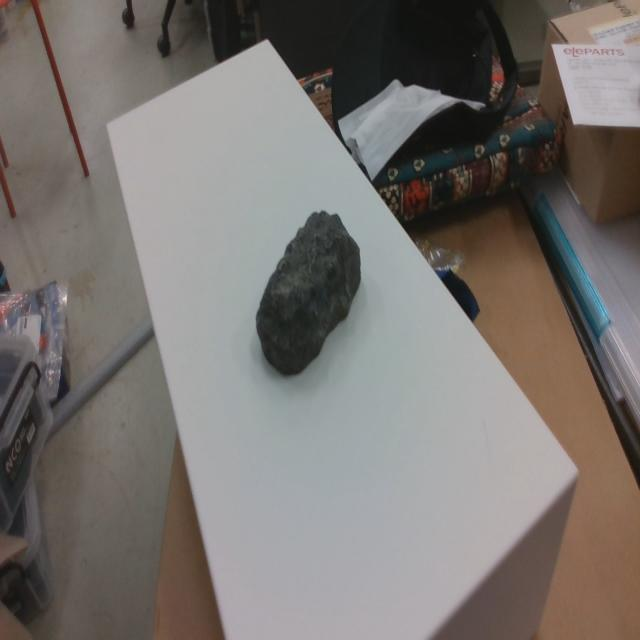stone: (256, 212, 361, 380)
